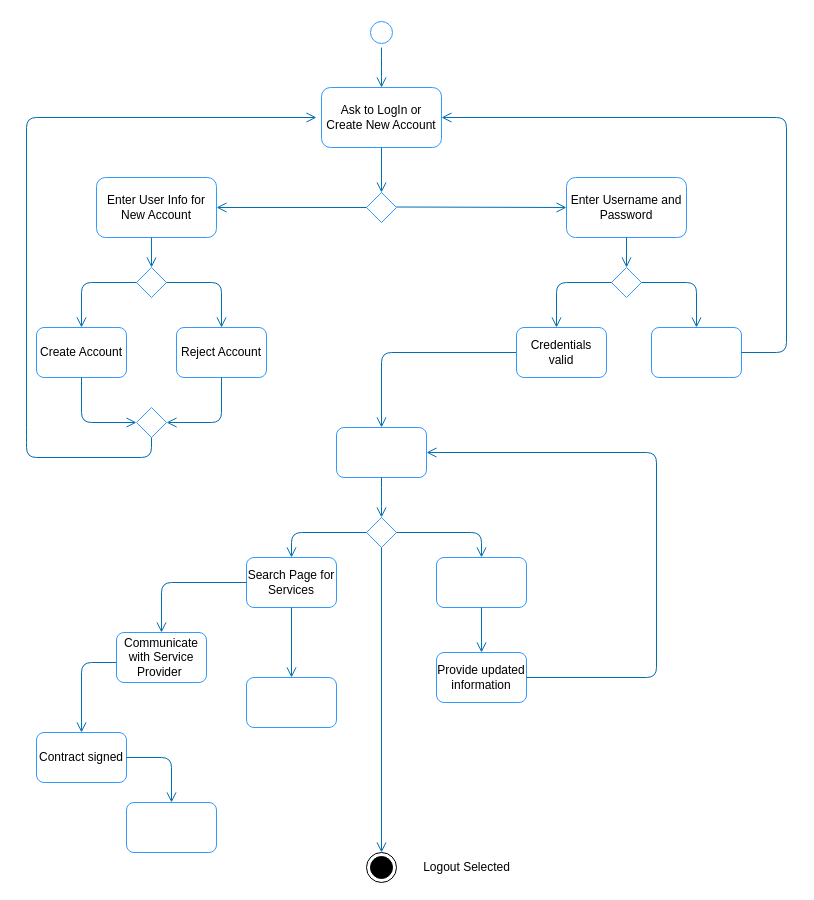
Image size: 814x900. Some labels were removed from this diagram. Each missing label, with the centre of its shape:
"Credentials invalid" goes at [696,352].
"Customer Home Page" goes at [381,452].
"Customer May leave review" goes at [171,827].
"Report Fake Profiles to Admin" goes at [291,702].
"Update Profile Selected" goes at [481,582].
